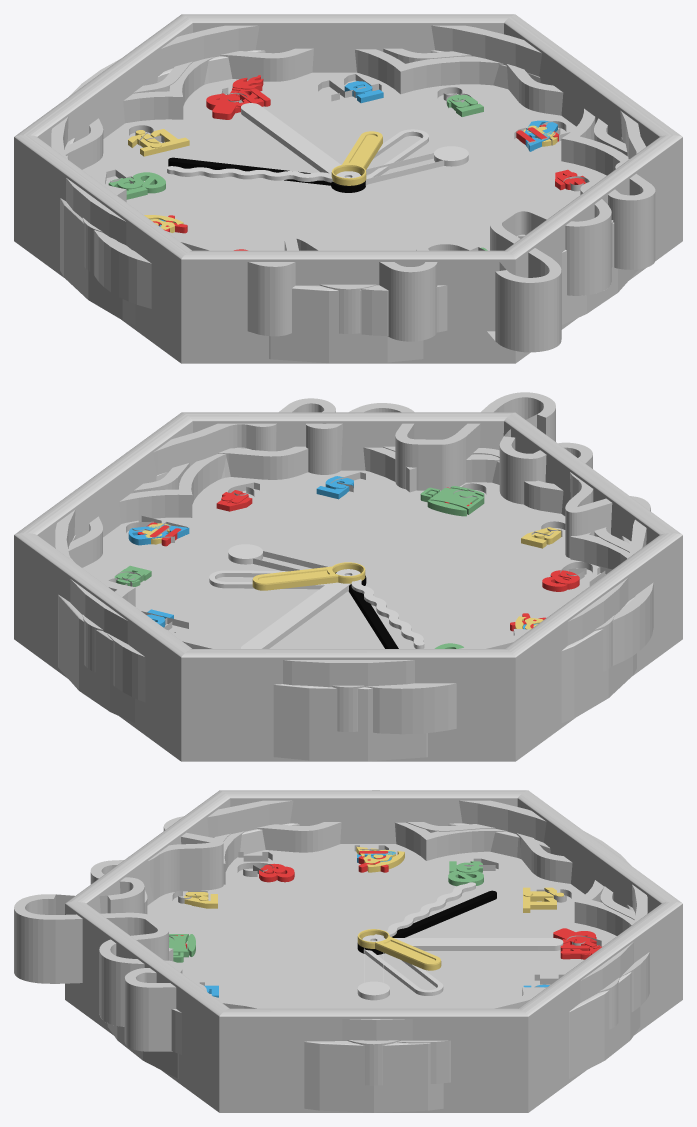
Rendered from reloj-maestro.glb.
The picture shows the model from 3 angles, top to bottom: view 1: azimuth 30°, elevation 25°; view 2: azimuth 150°, elevation 25°; view 3: azimuth 270°, elevation 25°; orthographic projection. The views are drawn at different scales.
Parts seen in each view (by area): view 1: base_03, base_02, base_05, base_01, base_04, arabigos, dislexicos, manecilla_minuto_02, emojis, manecilla_minuto_01, letras, manecilla_hora_02 (+4 smaller); view 2: base_03, base_02, base_05, base_01, base_04, dislexicos, arabigos, emojis, manecilla_minuto_02, manecilla_hora_03, letras, manecilla_hora_02 (+3 smaller); view 3: base_02, base_03, base_05, base_01, base_04, arabigos, manecilla_minuto_02, dislexicos, emojis, manecilla_hora_03, manecilla_minuto_03, letras (+4 smaller).
Part boxes in pixels (bbox=[...]): base_03: bbox=[82, 49, 628, 335]; base_02: bbox=[14, 14, 682, 363]; base_05: bbox=[51, 25, 655, 352]; base_01: bbox=[60, 50, 638, 363]; base_04: bbox=[64, 48, 627, 333]; arabigos: bbox=[108, 81, 585, 250]; dislexicos: bbox=[105, 74, 589, 193]; manecilla_minuto_02: bbox=[241, 103, 350, 178]; emojis: bbox=[144, 75, 557, 250]; manecilla_minuto_01: bbox=[167, 166, 360, 182]; letras: bbox=[117, 81, 577, 190]; manecilla_hora_02: bbox=[366, 146, 468, 184]; base_03: bbox=[71, 447, 653, 734]; base_02: bbox=[14, 412, 682, 761]; base_05: bbox=[55, 392, 650, 687]; base_01: bbox=[58, 448, 636, 761]; base_04: bbox=[68, 446, 630, 731]; dislexicos: bbox=[108, 472, 612, 632]; arabigos: bbox=[114, 477, 576, 648]; emojis: bbox=[128, 486, 543, 629]; manecilla_minuto_02: bbox=[241, 575, 351, 648]; manecilla_hora_03: bbox=[252, 562, 365, 590]; letras: bbox=[116, 476, 579, 627]; manecilla_hora_02: bbox=[228, 544, 327, 571]; base_02: bbox=[65, 790, 682, 1112]; base_03: bbox=[147, 822, 649, 1083]; base_05: bbox=[14, 790, 647, 1051]; base_01: bbox=[107, 823, 640, 1112]; base_04: bbox=[144, 822, 635, 1085]; arabigos: bbox=[184, 854, 596, 997]; manecilla_minuto_02: bbox=[371, 938, 563, 950]; dislexicos: bbox=[169, 845, 601, 987]; emojis: bbox=[169, 846, 602, 962]; manecilla_hora_03: bbox=[357, 929, 441, 970]; manecilla_minuto_03: bbox=[357, 890, 496, 954]; letras: bbox=[169, 851, 595, 993].
Size of the model in its own units: 242 by 46.77 by 289.
